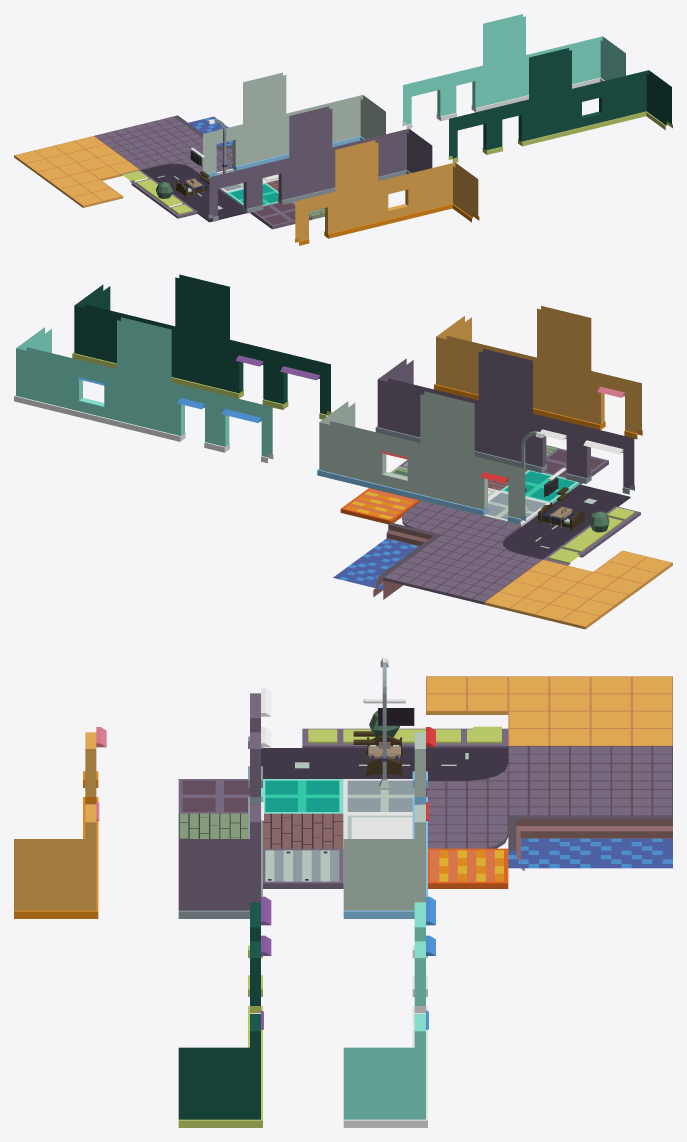
Rendered from ModularCity.fbx.
3 renders of one model, top to bottom at view 1: azimuth 30°, elevation 25°; view 2: azimuth 150°, elevation 25°; view 3: azimuth 270°, elevation 25°, orthographic. The views are drawn at different scales.
Parts seen in each view (by area): view 1: Footpath2_4x4, Footpath4x4, WallCorner3, WallCorner5, WallCorner2, WallCorner1, WallCorner4, WallHigh2, WallHigh3, WallHigh1, WallHigh4, WallHigh5 (+23 smaller); view 2: Footpath2_4x4, Footpath4x4, WallCorner1, WallCorner4, WallHigh2, WallHigh1, WallHigh5, WallHigh4, WallHigh3, WallCorner2, WallCorner5, WallCorner3 (+30 smaller); view 3: Footpath4x4, Footpath2_4x4, WallCorner4, WallCorner5, WallCorner3, WallCorner1, WallCorner2, FloorFancy2, FloorFactory, Footpath2, FloorWood, FloorPlain3 (+26 smaller).
Part boxes in pixels (<box>): Footpath2_4x4: <box>14,136,139,190</box>; Footpath4x4: <box>94,116,219,170</box>; WallCorner3: <box>415,162,479,222</box>; WallCorner5: <box>609,70,672,129</box>; WallCorner2: <box>369,128,432,180</box>; WallCorner1: <box>323,95,385,147</box>; WallCorner4: <box>563,36,625,88</box>; WallHigh2: <box>289,106,332,159</box>; WallHigh3: <box>335,140,378,193</box>; WallHigh1: <box>243,72,286,126</box>; WallHigh4: <box>483,14,525,67</box>; WallHigh5: <box>529,48,571,101</box>; Footpath2_4x4: <box>484,559,643,629</box>; Footpath4x4: <box>383,535,542,604</box>; WallCorner1: <box>317,401,373,487</box>; WallCorner4: <box>14,327,70,413</box>; WallHigh2: <box>478,348,532,416</box>; WallHigh1: <box>420,391,474,459</box>; WallHigh5: <box>175,274,229,342</box>; WallHigh4: <box>117,317,171,385</box>; WallHigh3: <box>537,306,591,373</box>; WallCorner2: <box>375,358,431,442</box>; WallCorner5: <box>72,284,128,368</box>; WallCorner3: <box>434,316,490,400</box>; Footpath4x4: <box>508,746,672,815</box>; Footpath2_4x4: <box>508,676,672,745</box>; WallCorner4: <box>343,1047,427,1127</box>; WallCorner5: <box>178,1047,262,1127</box>; WallCorner3: <box>14,839,98,918</box>; WallCorner1: <box>343,839,427,918</box>; WallCorner2: <box>178,839,262,918</box>; FloorFancy2: <box>428,848,508,888</box>; FloorFactory: <box>263,848,343,888</box>; Footpath2: <box>426,676,508,714</box>; FloorWood: <box>263,813,343,848</box>; FloorPlain3: <box>261,779,343,813</box>.
Size of the model in its own units: 2605 by 490 by 1600.
